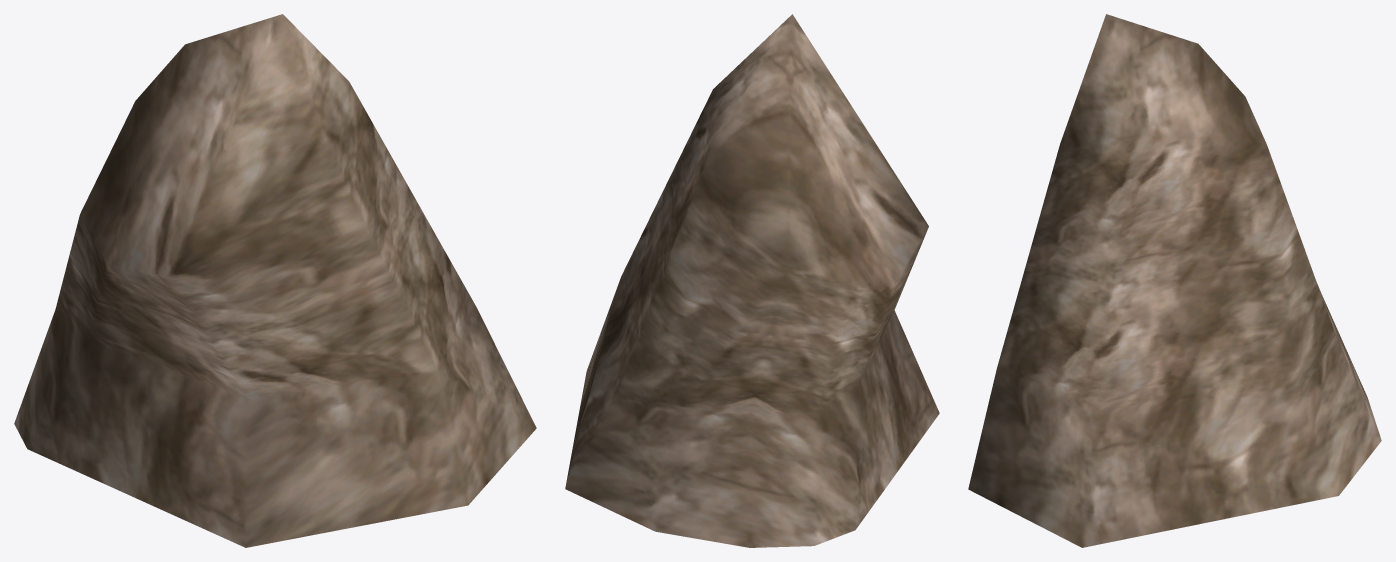
Rendered from OVERHILL_A_01_ROCK05.fbx.
3 views of the same model, side by side, from view 1: azimuth 30°, elevation 25°; view 2: azimuth 150°, elevation 25°; view 3: azimuth 270°, elevation 25° (orthographic). The views are drawn at different scales.
Parts seen in each view (by area): view 1: OVERHILL_A_01_ROCK05; view 2: OVERHILL_A_01_ROCK05; view 3: OVERHILL_A_01_ROCK05.
Part boxes in pixels (left/top/right/bottom): OVERHILL_A_01_ROCK05: left=14, top=14, right=536, bottom=547; OVERHILL_A_01_ROCK05: left=565, top=14, right=939, bottom=547; OVERHILL_A_01_ROCK05: left=968, top=14, right=1381, bottom=547.
Bounding box in the file's own units: 83557 × 91729 × 80711.
Materials: 1 (1 with a texture image).
